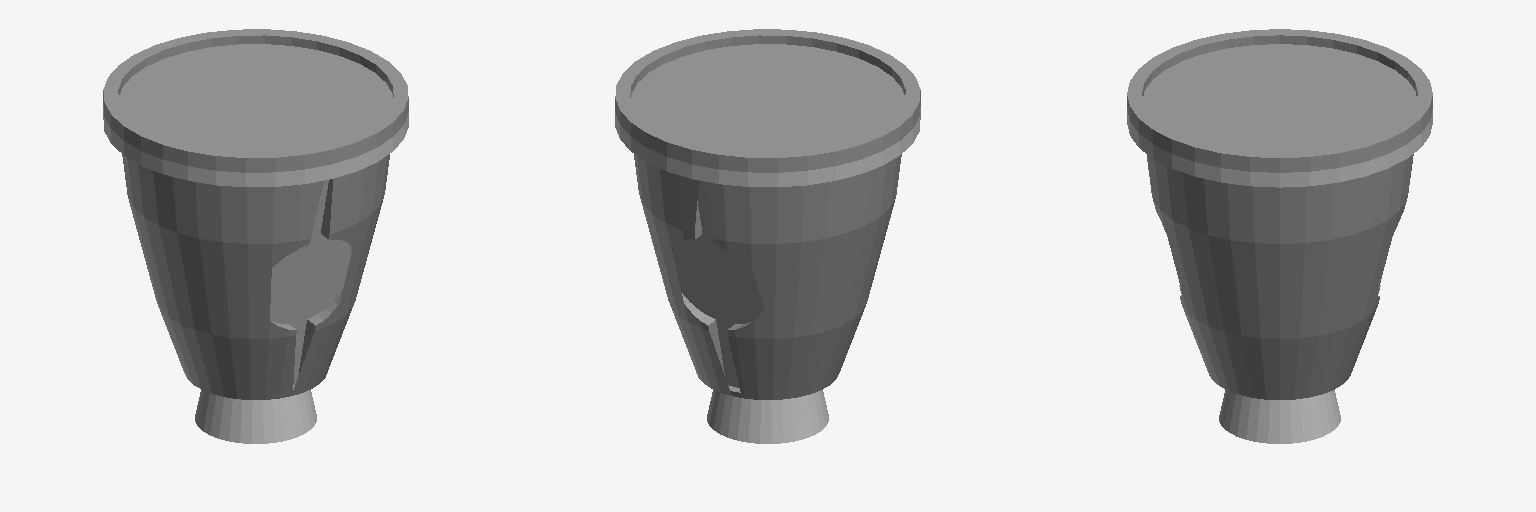
The model's file is Thruster.obj.
The picture shows the model from 3 angles: view 1: azimuth 30°, elevation 25°; view 2: azimuth 150°, elevation 25°; view 3: azimuth 270°, elevation 25°; orthographic projection.
Parts seen in each view (by area): view 1: Cylinder_Cylinder.001; view 2: Cylinder_Cylinder.001; view 3: Cylinder_Cylinder.001.
Part boxes in pixels (x1,y1,x2,y2): Cylinder_Cylinder.001: (103,29,408,443); Cylinder_Cylinder.001: (615,29,920,443); Cylinder_Cylinder.001: (1127,29,1432,443).
Bounding box in the file's own units: 0.2524 × 0.2955 × 0.2524.